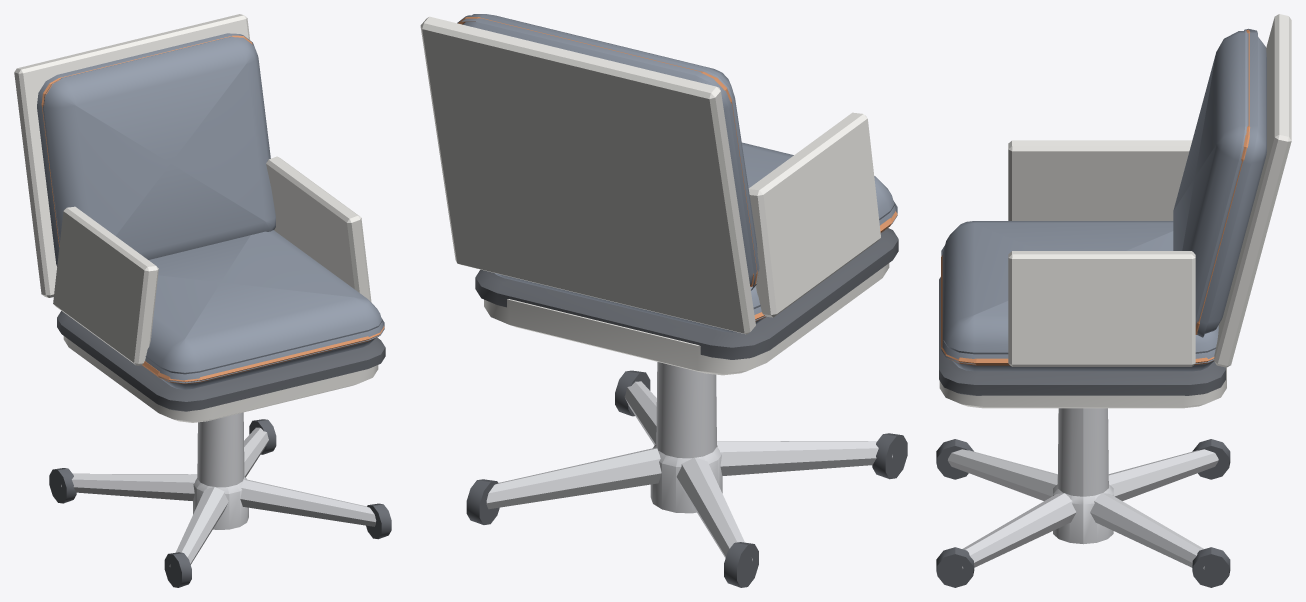
Rendered from meeting-chair-castors.glb.
3 views of the same model, side by side, from view 1: azimuth 30°, elevation 25°; view 2: azimuth 150°, elevation 25°; view 3: azimuth 270°, elevation 25° (orthographic). The views are drawn at different scales.
Parts seen in each view (by area): view 1: meeting-chair-castors; view 2: meeting-chair-castors; view 3: meeting-chair-castors.
Part boxes in pixels (bbox=[...]): meeting-chair-castors: bbox=[14, 14, 391, 587]; meeting-chair-castors: bbox=[420, 14, 907, 587]; meeting-chair-castors: bbox=[936, 14, 1291, 587].
Size of the model in its own units: 0.4883 by 0.8091 by 0.5693.
